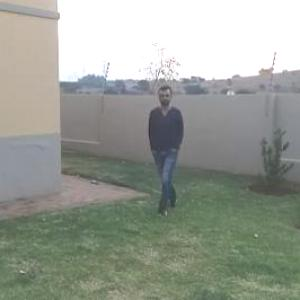follow: (141, 83, 184, 210)
